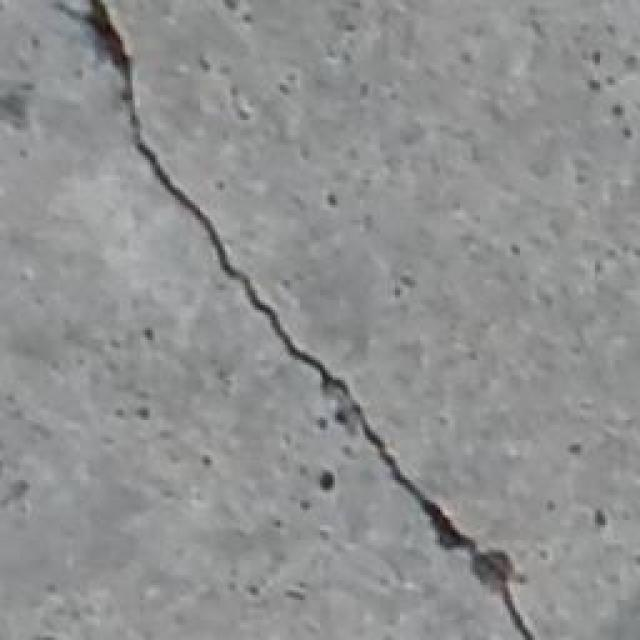concrete-crack: (52, 0, 542, 640)
